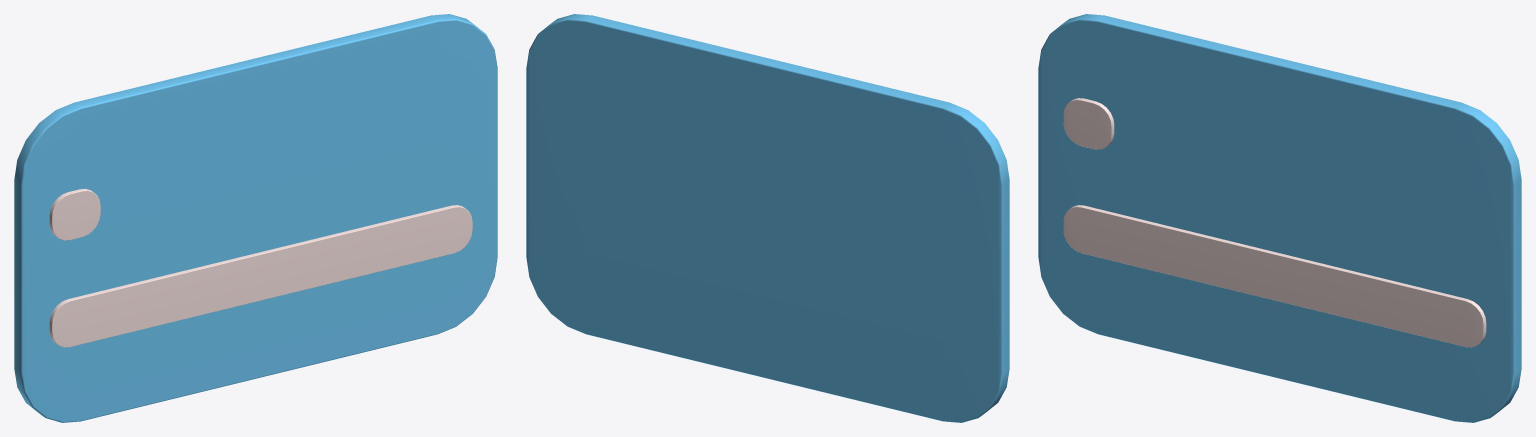
The model's file is Public_1_Bank_Card_2.glb.
3 views of the same model, side by side, from view 1: azimuth 30°, elevation 25°; view 2: azimuth 150°, elevation 25°; view 3: azimuth 330°, elevation 25° (orthographic).
Visible parts, largest first — view 1: Public_1_Bank_Card_2; view 2: Public_1_Bank_Card_2; view 3: Public_1_Bank_Card_2.
Boxes of the visible parts, x1,y1,x2,y2 form: Public_1_Bank_Card_2: (14,14,497,422); Public_1_Bank_Card_2: (526,14,1009,422); Public_1_Bank_Card_2: (1038,14,1521,422).
Size of the model in its own units: 0.7796 by 0.4909 by 0.0298.
1 material, 1 textured.
